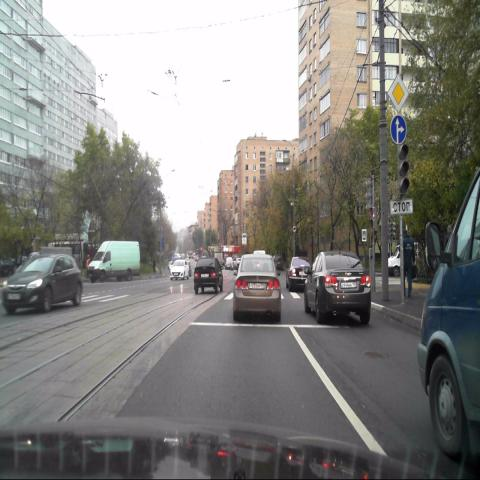4_1_4: (390, 115, 406, 143)
